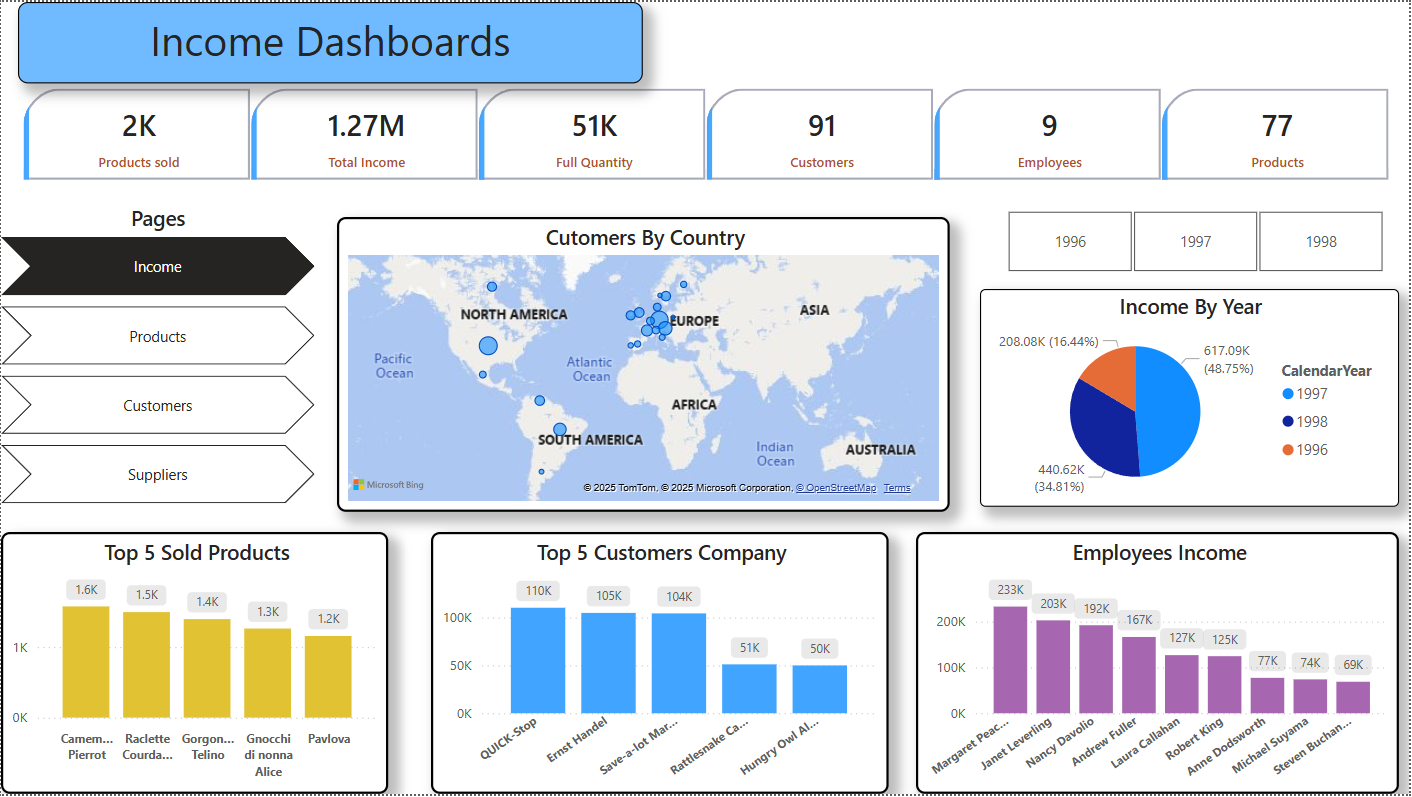

The page's visual inventory and layout, read from the dashboard file:
{"tool":"powerbi","page":{"name":"Income","canvas":[1280,720],"ordinal":0},"visuals":[{"type":"pieChart","title":"Income By Year","fields":{"Y":["gold FactSales.Total Amount"],"Category":["gold DimTime.CalendarYear"]},"box":[890,261.1,381.1,197.8],"z":0},{"type":"columnChart","title":"Top 5 Customers Company","fields":{"Category":["gold DimCustomer.CompanyName"],"Y":["gold FactSales.Total Amount"]},"box":[391.1,482.2,415.6,237.8],"z":1000},{"type":"columnChart","title":"Employees Income","fields":{"Category":["gold DimEmployee.Fullname"],"Y":["gold FactSales.Total Amount"]},"box":[832.2,482.2,438.9,237.8],"z":2000},{"type":"slicer","fields":{"Values":["gold DimTime.CalendarYear"]},"box":[890,183.3,390,67.8],"z":3000},{"type":"cardVisual","fields":{"Data":["gold FactSales.Products sold","gold FactSales.Total Amount","gold FactSales.Full Quantity","gold FactSales.Customers","gold FactSales.Employees","gold FactSales.Products"]},"box":[15.6,73.3,1255.6,93.3],"z":4000},{"type":"columnChart","title":"Top 5 Sold Products","fields":{"Category":["gold DimProduct.ProductName"],"Y":["gold FactSales.Total Quntity"]},"box":[0,482.2,352.2,237.8],"z":5000},{"type":"map","title":"Cutomers By Country","fields":{"Category":["gold DimCustomer.Country"],"Size":["gold FactSales.Total Income"]},"box":[305.6,195.6,556.7,267.8],"z":6000},{"type":"pageNavigator","title":"Pages","box":[0,183.3,285.6,275.6],"z":6001}]}

Visuals, with their boxes in screenshot pixels (x1, y1, x2, y2), scaled from the page's 1280x720 canvas onto the 1412x797 screenshot:
"Income By Year" pieChart: (x1=982, y1=289, x2=1402, y2=508)
"Top 5 Customers Company" columnChart: (x1=431, y1=534, x2=890, y2=796)
"Employees Income" columnChart: (x1=918, y1=534, x2=1402, y2=796)
slicer - gold DimTime.CalendarYear: (x1=982, y1=203, x2=1411, y2=278)
cardVisual - gold FactSales.Products sold x gold FactSales.Total Amount: (x1=17, y1=81, x2=1402, y2=184)
"Top 5 Sold Products" columnChart: (x1=0, y1=534, x2=389, y2=796)
"Cutomers By Country" map: (x1=337, y1=217, x2=951, y2=513)
"Pages" pageNavigator: (x1=0, y1=203, x2=315, y2=508)
